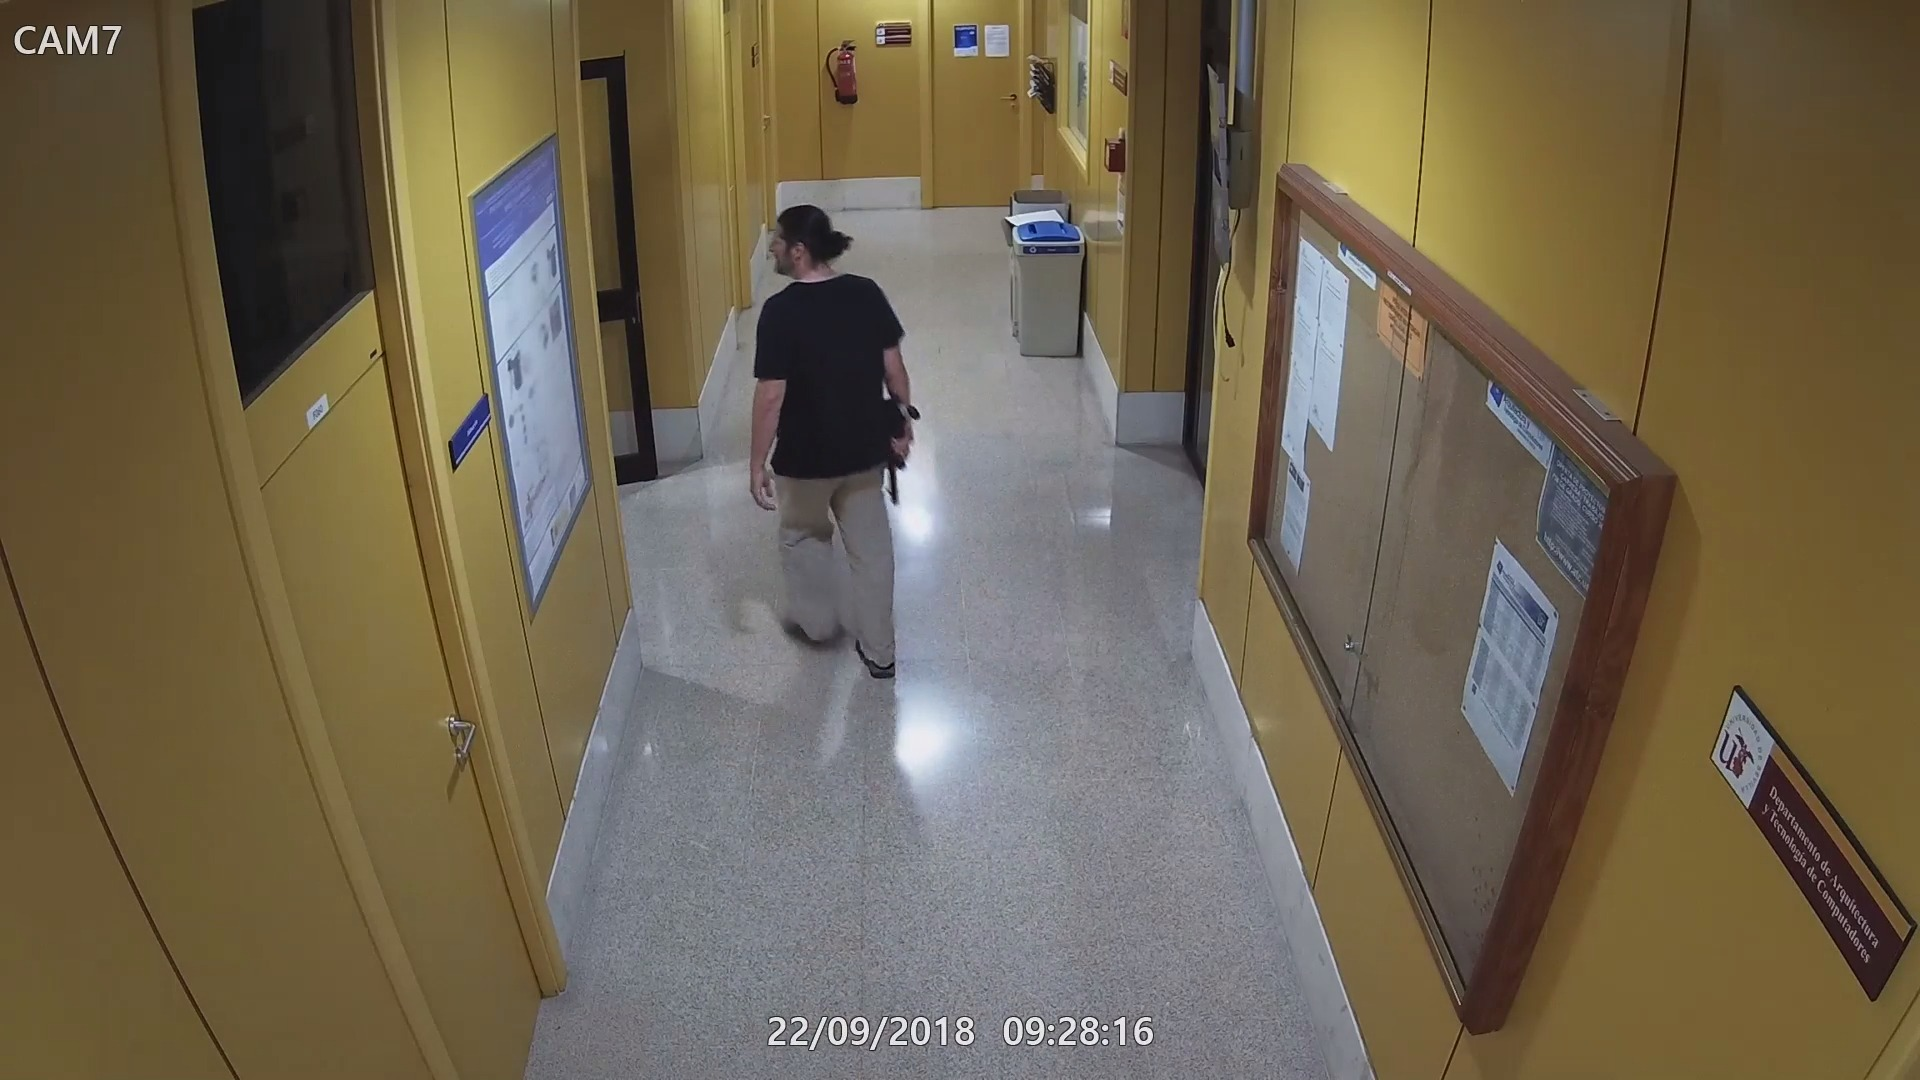Short_rifle: (884, 393, 918, 501)
